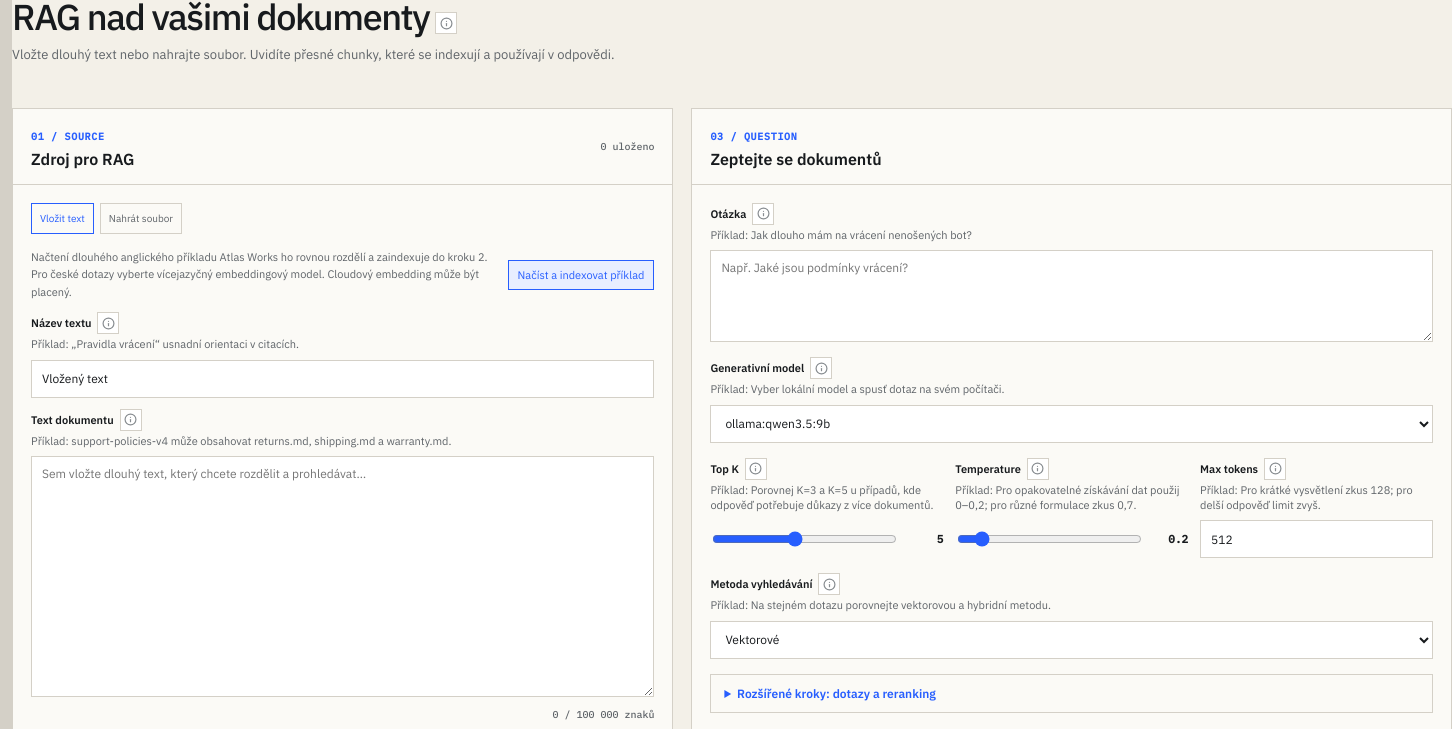
Test case: RagPage › loads the long example into step 2 and makes it available to questions
Click the button "Načíst a indexovat příklad".
click(581, 275)  # box [508,260,654,290]
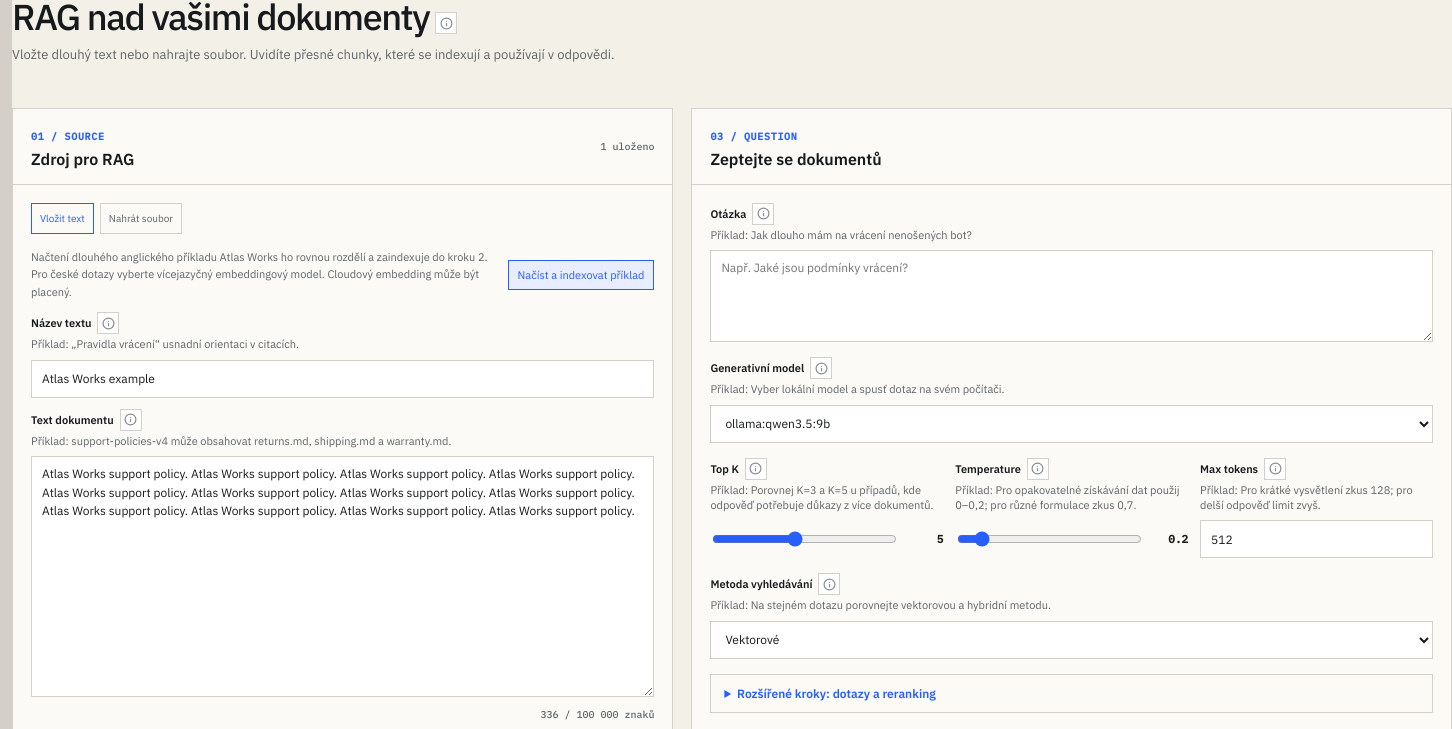
Check: the field showing "Atlas Works example" is shown, box [31,360,654,398]
Type "What does Atlas Works do?" into the text box labelled "Otázka".
click(1072, 296); type("What does Atlas Works do?")  # box [710,250,1433,342]
(page scrolled)
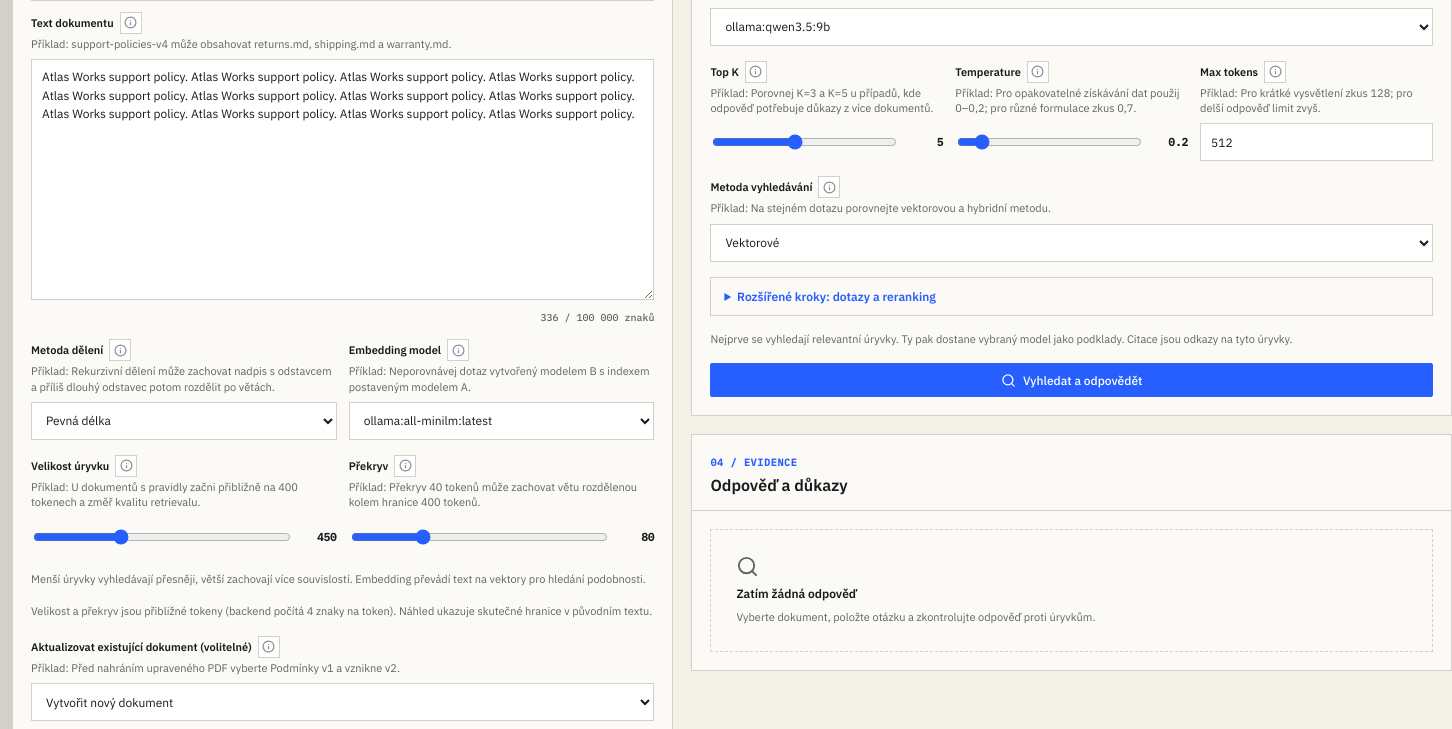
Check: the button "Vyhledat a odpovědět" is enabled, box [710,363,1433,397]
